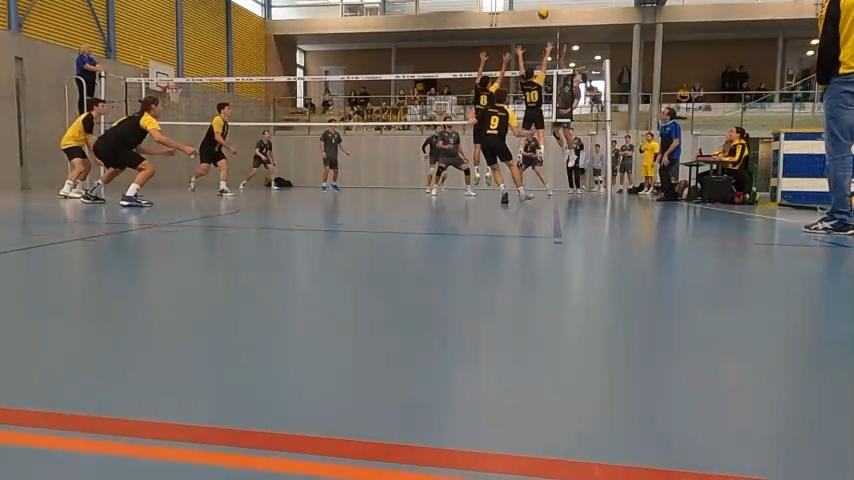Attack: (552, 44, 581, 168)
Block: (513, 40, 556, 163), (474, 47, 509, 182)
Player: (81, 96, 196, 206), (469, 89, 533, 204), (58, 98, 104, 198), (189, 102, 236, 196), (431, 124, 475, 196), (518, 126, 552, 196), (239, 130, 277, 190), (320, 119, 349, 191), (421, 125, 443, 192)
ball: (538, 8, 548, 19)
